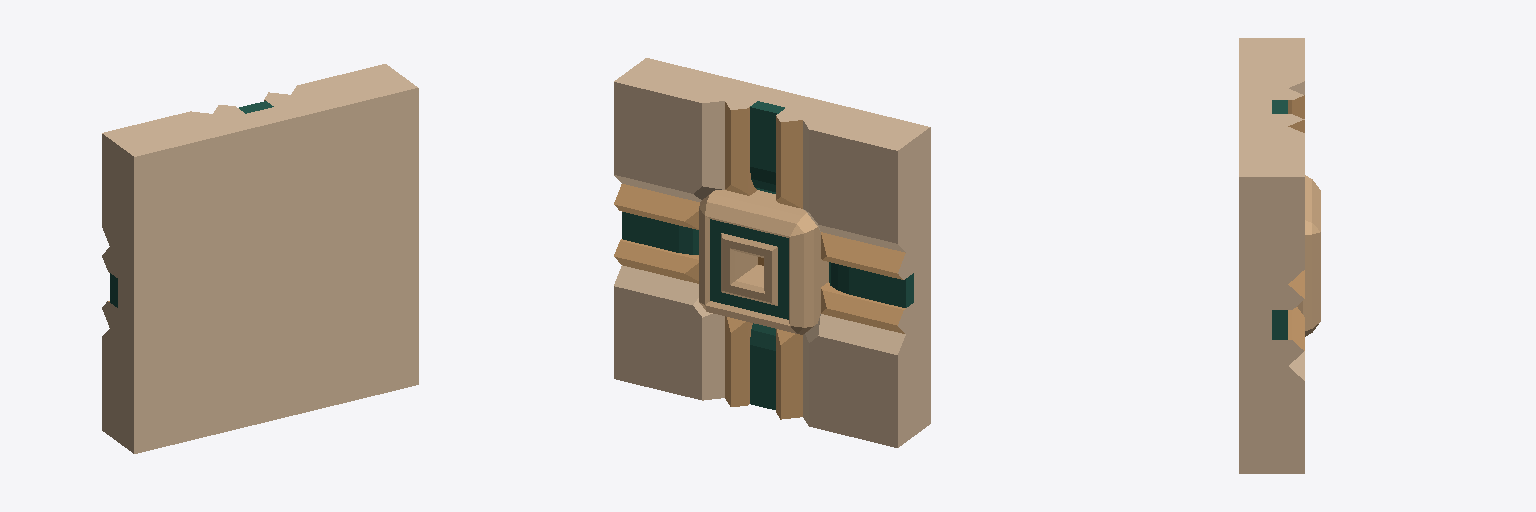
Rendered from Puzzle_Wall_Conduit_Keyhole_Cross.obj.
3 views of the same model, side by side, from view 1: azimuth 30°, elevation 25°; view 2: azimuth 150°, elevation 25°; view 3: azimuth 270°, elevation 25° (orthographic).
Parts seen in each view (by area): view 1: object7; view 2: object7, object5, object6, object3, object2, object4, object1; view 3: object7, object5.
Part boxes in pixels (x1,y1,x2,y2): object7: (102, 64, 418, 453); object7: (614, 58, 930, 447); object5: (699, 190, 828, 334); object6: (710, 219, 788, 319); object3: (829, 262, 913, 307); object2: (750, 101, 784, 193); object4: (622, 212, 698, 254); object1: (750, 323, 775, 409); object7: (1239, 38, 1304, 473); object5: (1297, 175, 1320, 336).
Size of the model in its own units: 1 by 1 by 0.25.